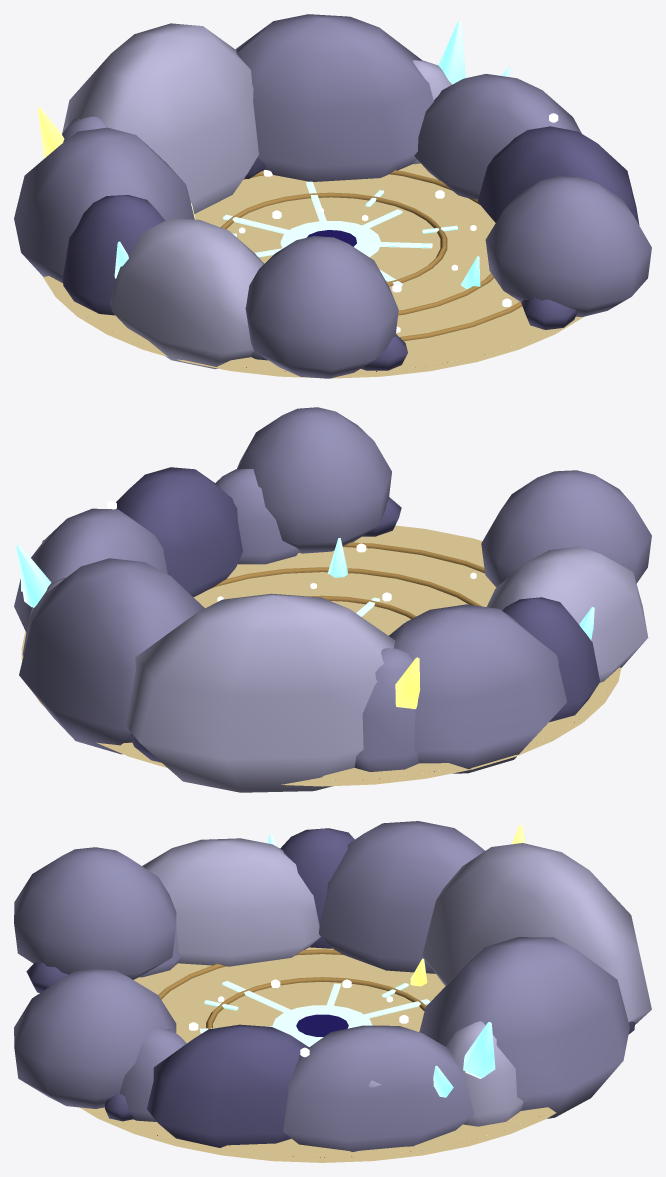
The model's file is crater.glb.
3 views of the same model, one above another, from view 1: azimuth 30°, elevation 25°; view 2: azimuth 150°, elevation 25°; view 3: azimuth 270°, elevation 25° (orthographic). The views are drawn at different scales.
Visible parts, largest first — view 1: Rim, Floor, Scorch, Rings, Glow; view 2: Rim, Floor, Glow, Rings; view 3: Rim, Floor, Scorch, Glow, Rings.
Part boxes in pixels (<box>): Rim: <box>14,14,651,378</box>; Floor: <box>42,163,583,378</box>; Scorch: <box>223,181,457,285</box>; Rings: <box>221,170,522,340</box>; Glow: <box>38,21,558,332</box>; Rim: <box>14,407,651,792</box>; Floor: <box>21,525,621,786</box>; Glow: <box>16,501,594,709</box>; Rings: <box>211,542,484,619</box>; Rim: <box>14,821,651,1151</box>; Floor: <box>79,947,556,1162</box>; Scorch: <box>200,981,430,1047</box>; Glow: <box>189,825,525,1097</box>; Rings: <box>158,949,426,1029</box>.
Bounding box in the file's own units: 5.08 × 1.68 × 5.34.
